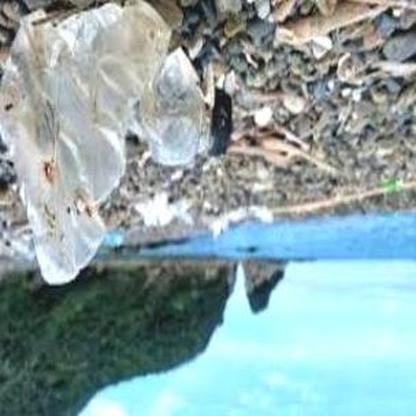plastic bottle: (2, 1, 234, 284)
